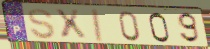0: (118, 11, 142, 43), (148, 12, 171, 44)
9: (176, 12, 201, 45)
I: (91, 8, 105, 43)
S: (27, 7, 57, 40)
X: (53, 9, 89, 42)
